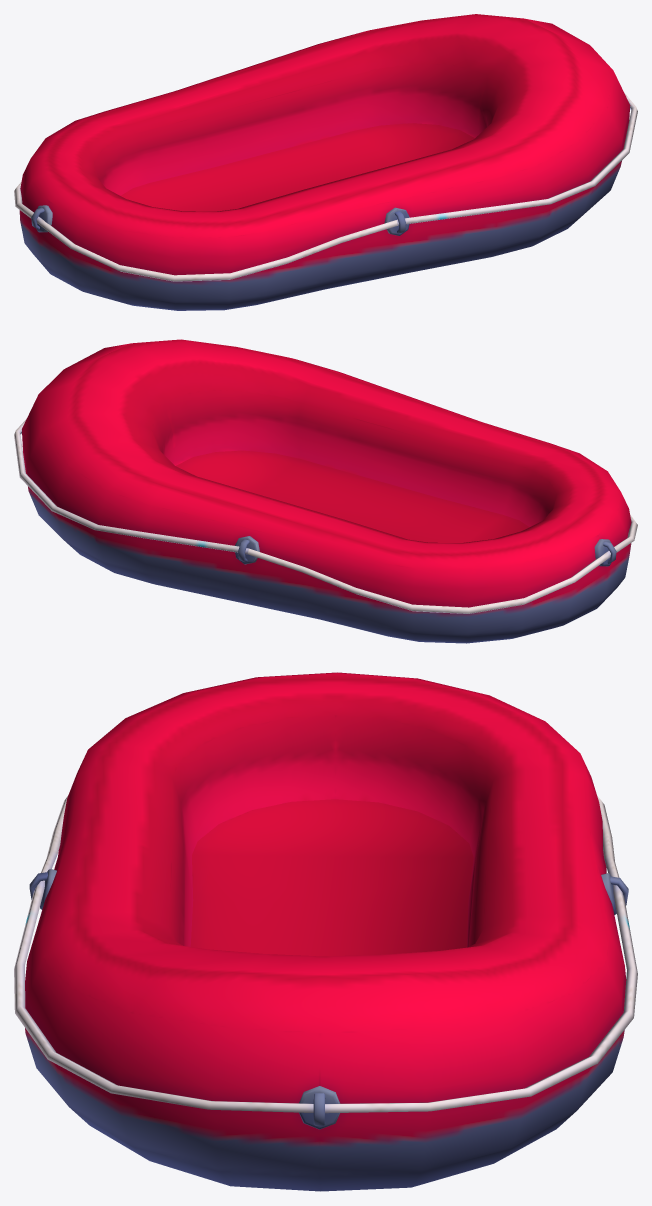
File: Boat7.fbx
The picture shows the model from 3 angles, top to bottom: view 1: azimuth 30°, elevation 25°; view 2: azimuth 150°, elevation 25°; view 3: azimuth 270°, elevation 25°; orthographic projection. The views are drawn at different scales.
Visible parts, largest first — view 1: Floatie_Boat_1_M_FloatiesPack02_B_0.001; view 2: Floatie_Boat_1_M_FloatiesPack02_B_0.001; view 3: Floatie_Boat_1_M_FloatiesPack02_B_0.001.
Part boxes in pixels (x1,y1,x2,y2): Floatie_Boat_1_M_FloatiesPack02_B_0.001: (14,14,637,310); Floatie_Boat_1_M_FloatiesPack02_B_0.001: (14,339,637,643); Floatie_Boat_1_M_FloatiesPack02_B_0.001: (14,672,637,1191).
Bounding box in the file's own units: 2.04 × 0.4645 × 1.22.
